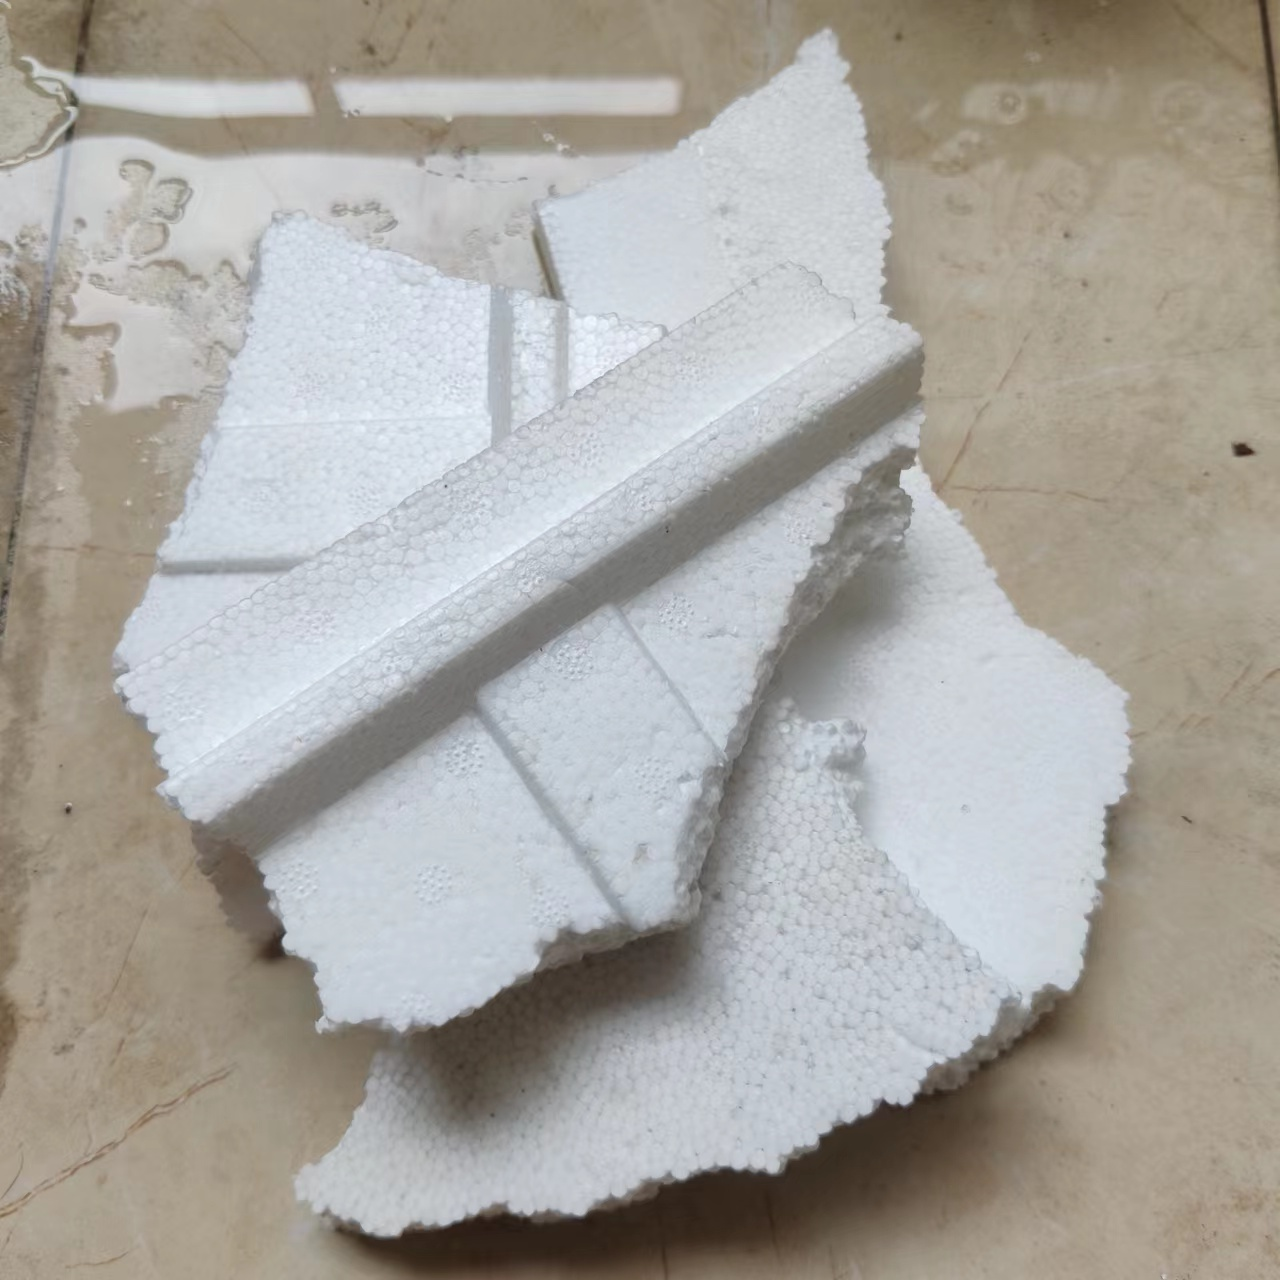5/可回收垃圾/泡沫: (109, 263, 932, 1037), (294, 686, 1023, 1242), (115, 211, 654, 683), (775, 467, 1137, 1017), (533, 30, 891, 324)
